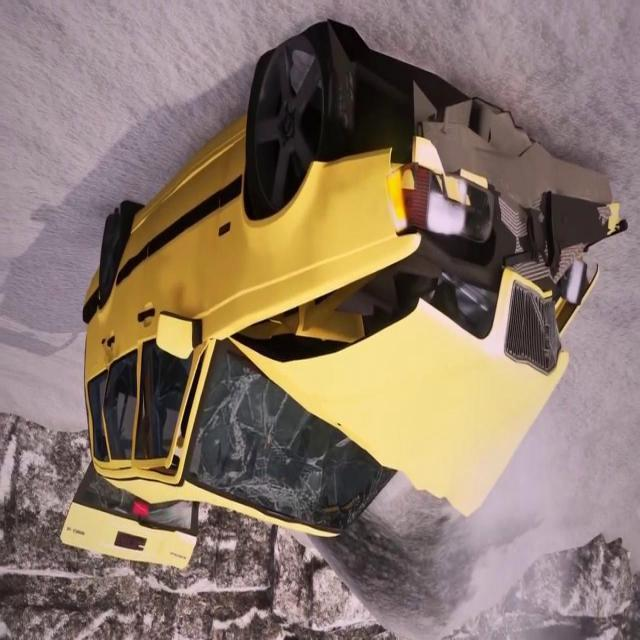vehicle: (72, 16, 614, 566)
